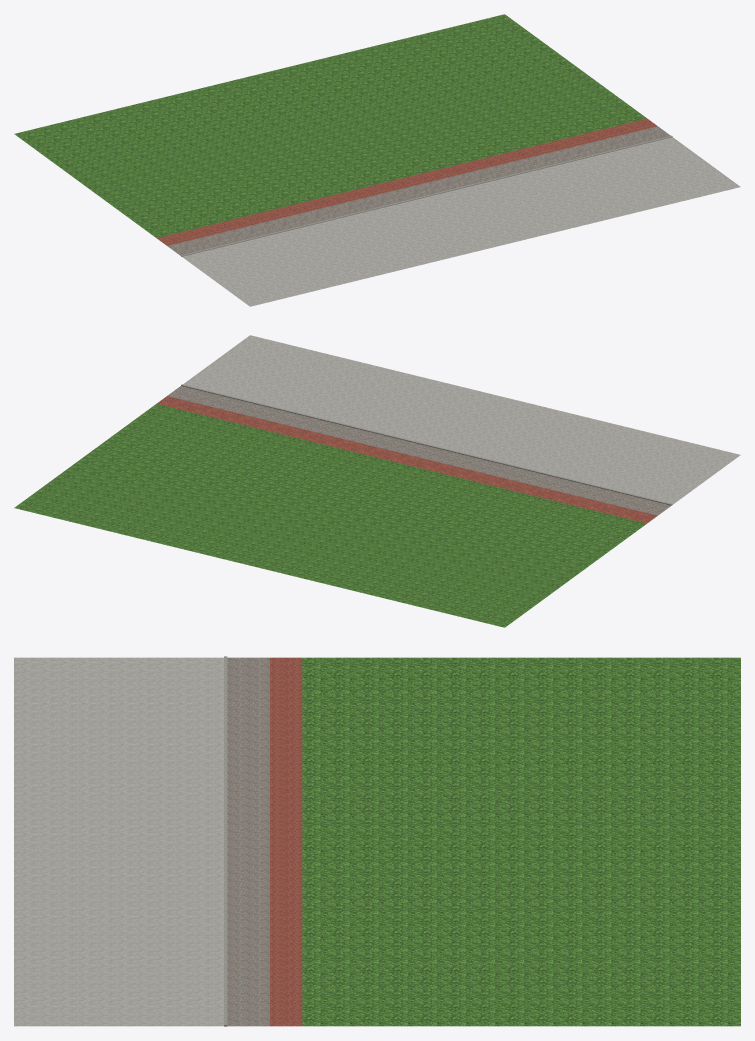
File: ground.glb
The picture shows the model from 3 angles, top to bottom: view 1: azimuth 30°, elevation 25°; view 2: azimuth 150°, elevation 25°; view 3: azimuth 270°, elevation 25°; orthographic projection. The views are drawn at different scales.
Visible parts, largest first — view 1: Grass_Behind_Wall, Sidewalk_Concrete, Paving_Grey, Paving_Red, Curb; view 2: Grass_Behind_Wall, Sidewalk_Concrete, Paving_Grey, Paving_Red, Curb; view 3: Grass_Behind_Wall, Sidewalk_Concrete, Paving_Grey, Paving_Red, Curb.
Part boxes in pixels (box(x1,y1,x2,y2)): Grass_Behind_Wall: box(14, 14, 646, 237); Sidewalk_Concrete: box(182, 137, 740, 306); Paving_Grey: box(167, 126, 670, 255); Paving_Red: box(156, 118, 657, 245); Curb: box(181, 135, 672, 256); Grass_Behind_Wall: box(14, 404, 646, 627); Sidewalk_Concrete: box(183, 335, 740, 504); Paving_Grey: box(167, 386, 670, 515); Paving_Red: box(156, 396, 657, 523); Curb: box(181, 384, 672, 505); Grass_Behind_Wall: box(302, 657, 740, 1026); Sidewalk_Concrete: box(14, 657, 223, 1026); Paving_Grey: box(227, 657, 269, 1026); Paving_Red: box(270, 657, 302, 1026); Curb: box(224, 656, 227, 1026).
Bounding box in the file's own units: 90 × 0.16 × 75.
5 materials, 5 textured.
